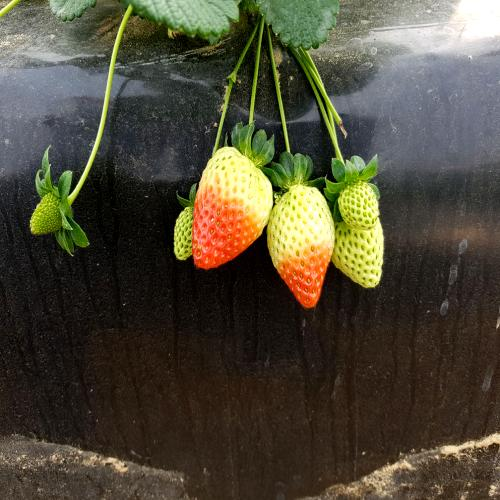partially-ripe: (195, 118, 271, 295), (271, 168, 336, 321)
